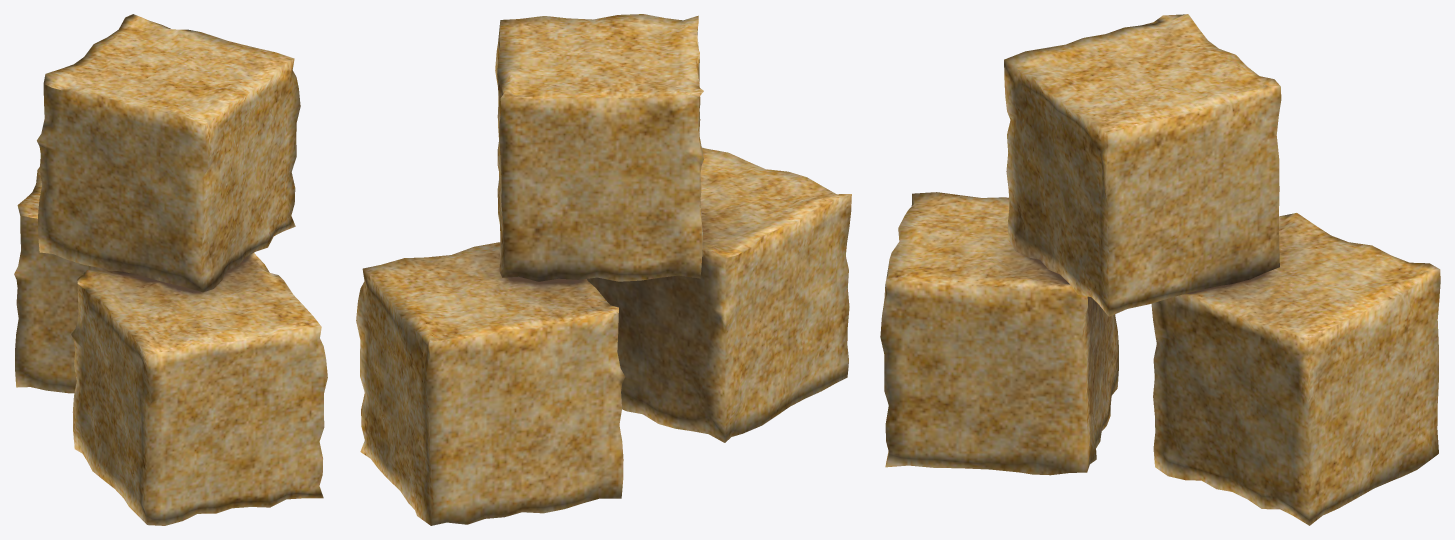
Rendered from cubesugar.glb.
3 views of the same model, side by side, from view 1: azimuth 30°, elevation 25°; view 2: azimuth 150°, elevation 25°; view 3: azimuth 270°, elevation 25° (orthographic). The views are drawn at different scales.
Parts seen in each view (by area): view 1: cube9_low.001, cube7_low.001, cube8_low.001; view 2: cube8_low.001, cube9_low.001, cube7_low.001; view 3: cube9_low.001, cube8_low.001, cube7_low.001.
Boxes of the visible parts, bbox=[...] form: cube9_low.001: bbox=[37, 14, 300, 292]; cube7_low.001: bbox=[71, 253, 327, 525]; cube8_low.001: bbox=[14, 167, 116, 393]; cube8_low.001: bbox=[356, 242, 625, 525]; cube9_low.001: bbox=[495, 14, 703, 281]; cube7_low.001: bbox=[587, 147, 851, 442]; cube9_low.001: bbox=[1004, 14, 1281, 316]; cube8_low.001: bbox=[1151, 213, 1440, 525]; cube7_low.001: bbox=[880, 192, 1118, 475].
Bounding box in the file's own units: 0.2405 × 0.2908 × 0.3867.
Materials: 1 (1 with a texture image).
